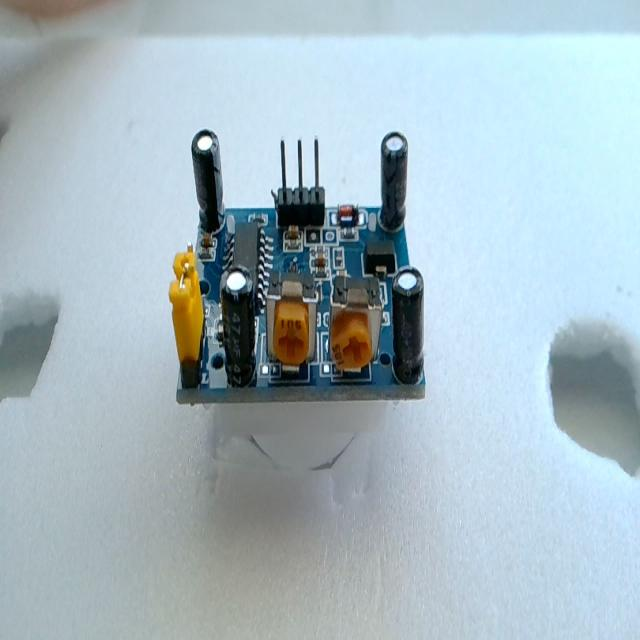Electrolytic capacitor: (220, 267, 256, 384), (190, 126, 226, 235), (392, 267, 425, 382), (379, 131, 408, 233)
pinheader: (272, 134, 328, 230)
